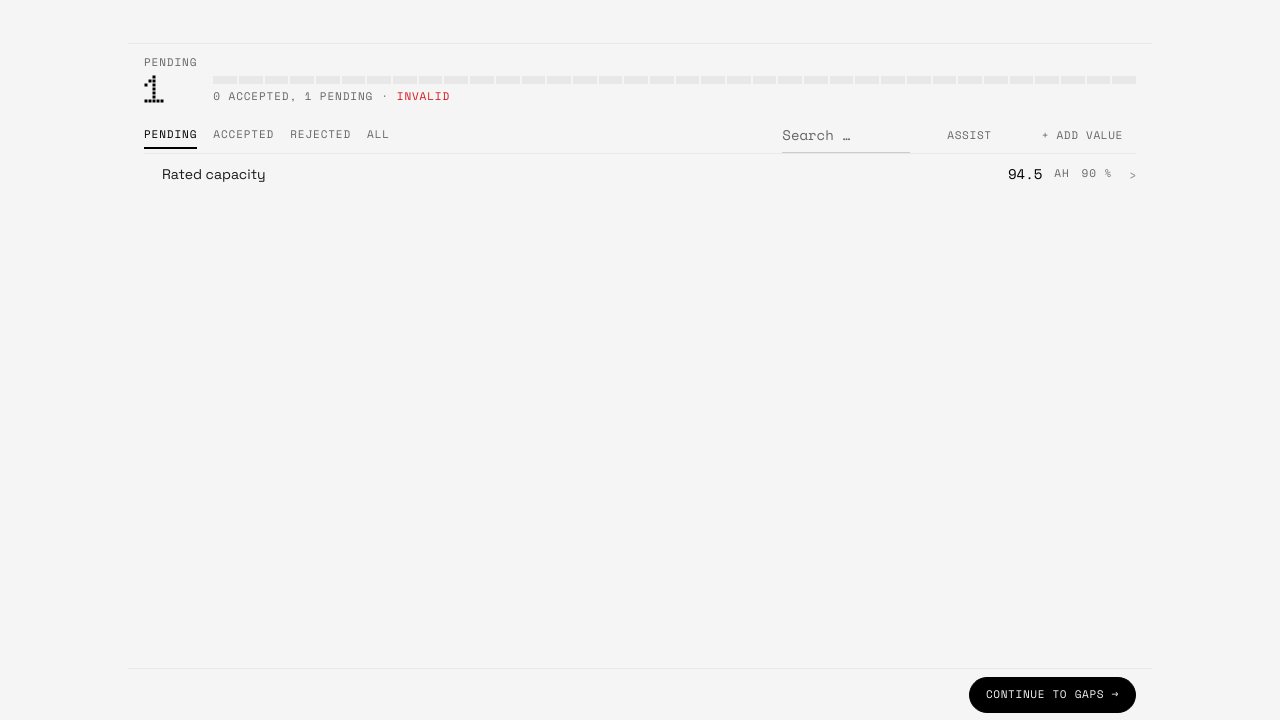
ReviewView › toggling ASSIST closes a row sheet that was open, so the assist sheet actually shows
Click the button with test id "group" at (214, 174), box [144,153,1136,193]
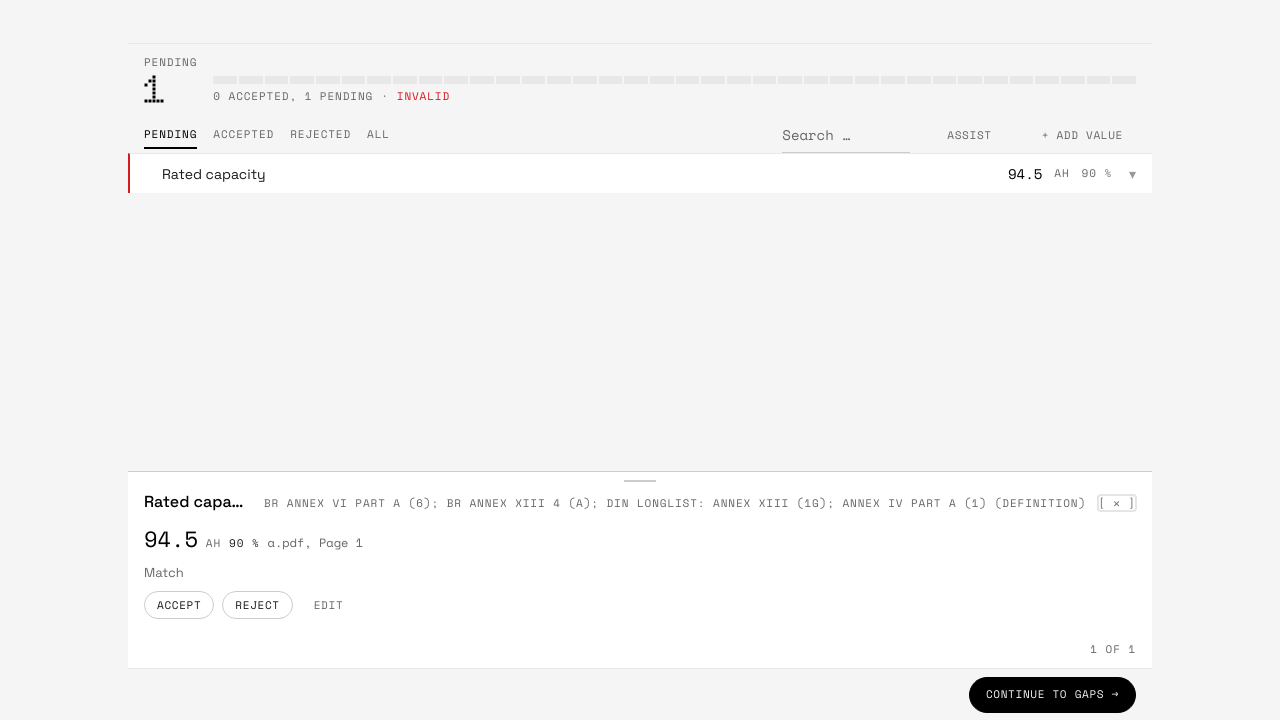
Now the dialog with test id "review-sheet" is shown, box [128,471,1152,668]
Click the button with test id "assist-toggle" at (970, 135), box [934,121,1005,149]
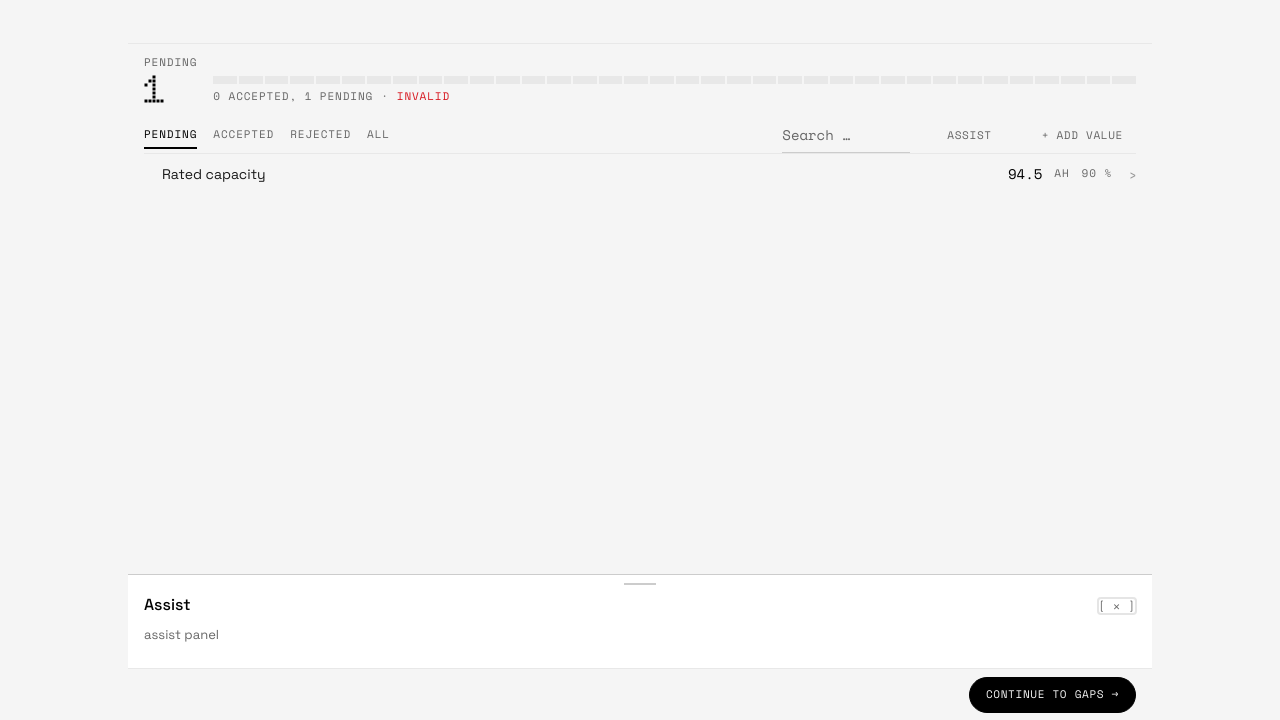
Now the dialog with test id "assist-sheet" shows "assist panel", box [144,626,219,642]
